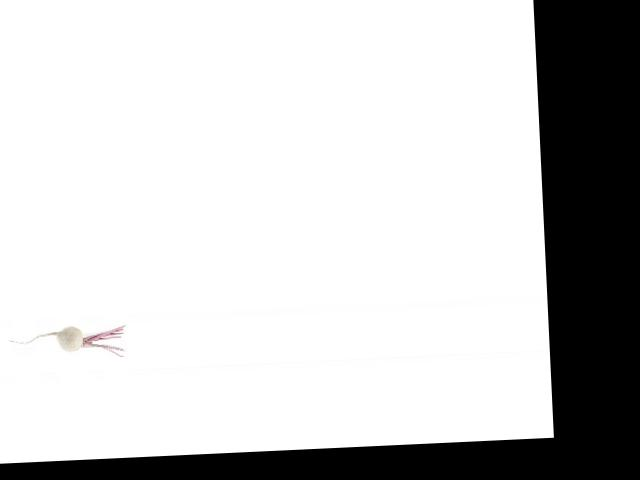beet: (7, 323, 126, 361)
